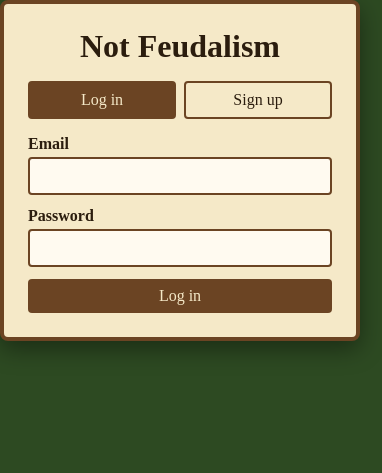
Test: AuthScreen › names the password, not the character name, when the password is too short
The width and height of the screenshot is (382, 473).
Step 1. Click the tab "Sign up" → [258, 100], box [184,81,332,119]
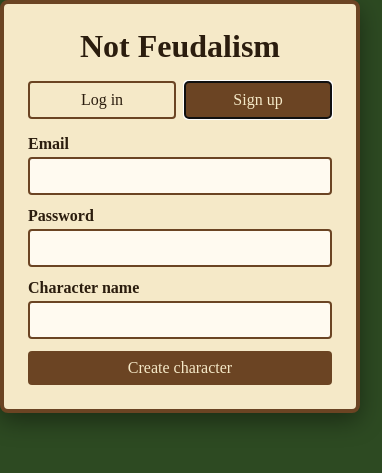
Step 2. Type "alice@example.test" into the field labelled "Email" → [180, 176], box [28,157,332,195]
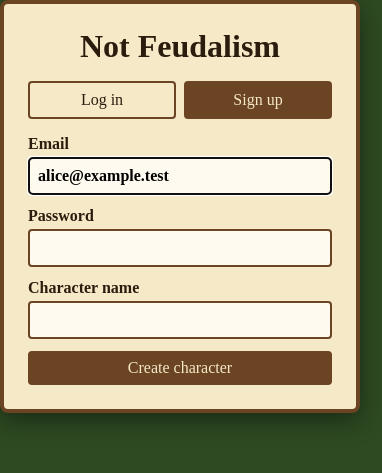
Step 3. Type "1234" into the password field labelled "Password" → [180, 248], box [28,229,332,267]
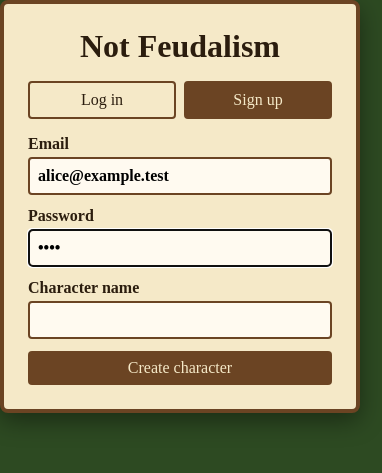
Step 4. Type "Cadethegreatest" into the field labelled "Character name" → [180, 320], box [28,301,332,339]
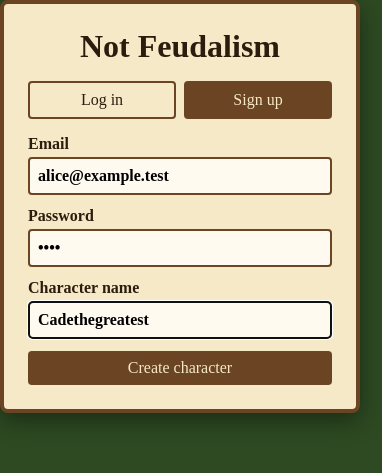
Step 5. Click the button "Create character" → [180, 368], box [28,351,332,385]
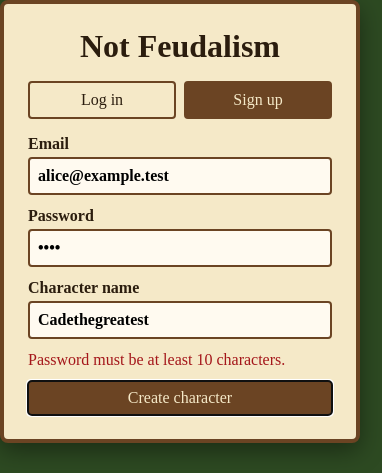
Result: the message reads "Password must be at least 10 characters." at [28,351,285,368]
